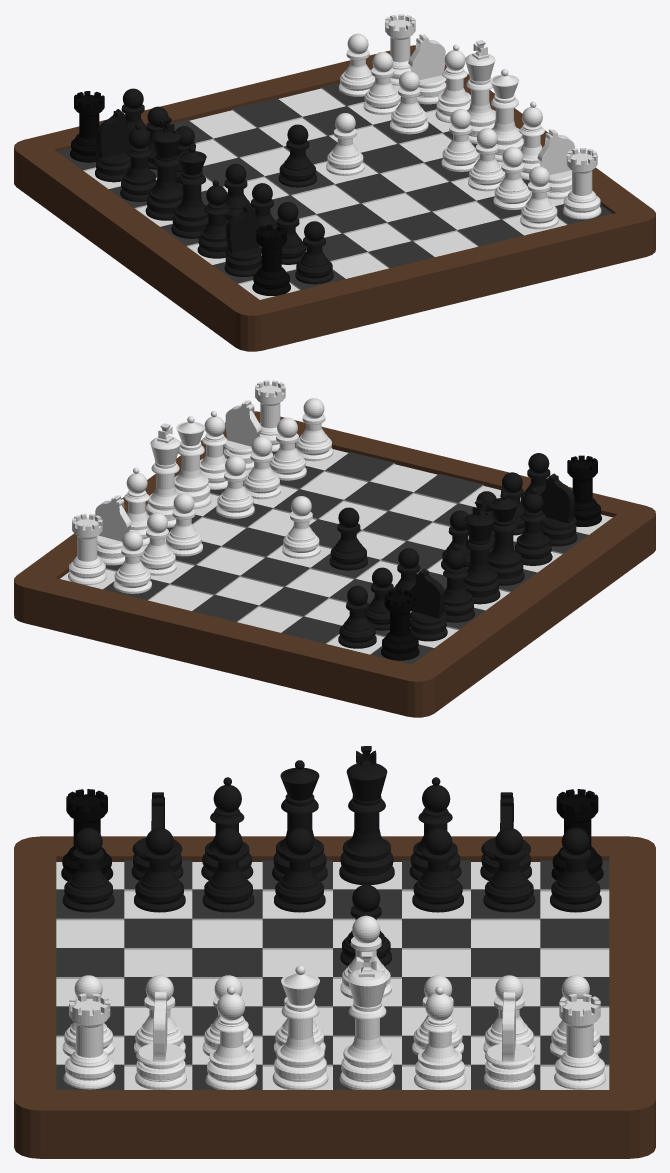
File: xadrez.fbx
The picture shows the model from 3 angles, top to bottom: view 1: azimuth 30°, elevation 25°; view 2: azimuth 150°, elevation 25°; view 3: azimuth 270°, elevation 25°; orthographic projection. The views are drawn at different scales.
Visible parts, largest first — view 1: Cube.001, Sphere.001, Sphere, Cube, Sphere.006, Cube.002, Cylinder.005, Cylinder.002, Sphere.005, Cube.003, Sphere.003, Cylinder.003 (+21 smaller); view 2: Cube.001, Sphere.001, Sphere, Sphere.006, Sphere.005, Cube.002, Cube, Cylinder.003, Cylinder.004, Sphere.004, Cube.003, Cylinder.002 (+20 smaller); view 3: Cube.001, Sphere.001, Sphere.006, Sphere.005, Cylinder.005, Cylinder.004, Sphere.007, Sphere.008, Sphere, Sphere.002, Sphere.012, Sphere.016 (+20 smaller).
Part boxes in pixels (x1=…): Cube.001: x1=14, y1=45, x2=655, y2=351; Sphere.001: x1=145, y1=116, x2=182, y2=220; Sphere: x1=171, y1=145, x2=208, y2=238; Cube: x1=224, y1=204, x2=261, y2=276; Sphere.006: x1=465, y1=40, x2=495, y2=143; Cube.002: x1=95, y1=109, x2=131, y2=182; Cylinder.005: x1=563, y1=148, x2=601, y2=219; Cylinder.002: x1=252, y1=224, x2=290, y2=295; Sphere.005: x1=490, y1=69, x2=523, y2=162; Cube.003: x1=408, y1=34, x2=446, y2=104; Sphere.003: x1=120, y1=123, x2=156, y2=201; Cylinder.003: x1=70, y1=91, x2=104, y2=162; Cube.001: x1=14, y1=411, x2=655, y2=717; Sphere.001: x1=464, y1=499, x2=500, y2=604; Sphere: x1=489, y1=492, x2=524, y2=585; Sphere.006: x1=146, y1=423, x2=180, y2=527; Sphere.005: x1=174, y1=416, x2=211, y2=509; Cube.002: x1=410, y1=568, x2=447, y2=641; Cube: x1=540, y1=473, x2=577, y2=546; Cylinder.003: x1=381, y1=589, x2=419, y2=660; Cylinder.004: x1=68, y1=513, x2=106, y2=585; Sphere.004: x1=515, y1=487, x2=552, y2=565; Cube.003: x1=95, y1=495, x2=131, y2=565; Cylinder.002: x1=567, y1=455, x2=601, y2=526; Cube.001: x1=14, y1=836, x2=655, y2=1158; Sphere.001: x1=339, y1=746, x2=394, y2=885; Sphere.006: x1=339, y1=952, x2=395, y2=1089; Sphere.005: x1=272, y1=965, x2=328, y2=1089; Cylinder.005: x1=63, y1=993, x2=115, y2=1089; Cylinder.004: x1=554, y1=994, x2=605, y2=1089; Sphere.007: x1=205, y1=986, x2=257, y2=1089; Sphere.008: x1=414, y1=986, x2=465, y2=1089; Sphere: x1=272, y1=760, x2=327, y2=881; Sphere.002: x1=550, y1=827, x2=601, y2=912; Sphere.012: x1=412, y1=827, x2=463, y2=912; Sphere.016: x1=274, y1=827, x2=325, y2=912.
Size of the model in its own units: 2029 by 590 by 2009.
